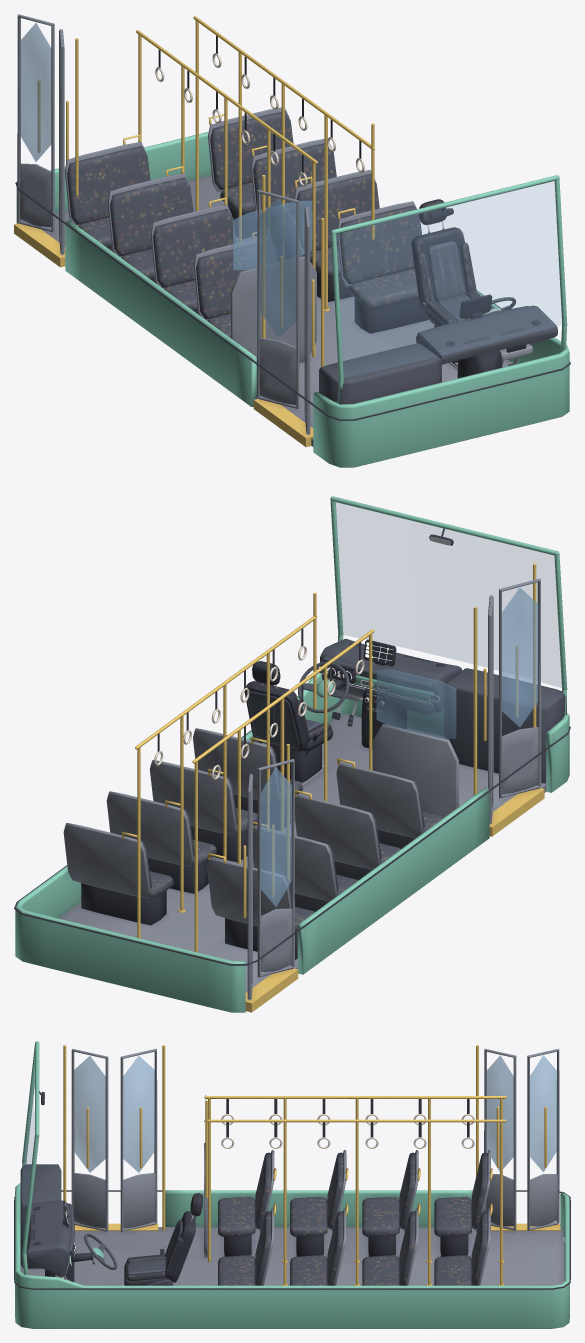
Rendered from bus-interior.glb.
3 renders of one model, top to bottom at view 1: azimuth 30°, elevation 25°; view 2: azimuth 150°, elevation 25°; view 3: azimuth 270°, elevation 25°, orthographic. The views are drawn at different scales.
Visible parts, largest first — view 1: bus-interior_body, bus-interior_windshield_glass, bus-interior_door_glass, bus-interior_partition_glass; view 2: bus-interior_body, bus-interior_windshield_glass, bus-interior_door_glass, bus-interior_partition_glass, bus-interior_steering_wheel; view 3: bus-interior_body, bus-interior_door_glass, bus-interior_windshield_glass, bus-interior_steering_wheel.
Part boxes in pixels (<box>): bus-interior_body: <box>14,14,570,467</box>; bus-interior_windshield_glass: <box>336,181,561,377</box>; bus-interior_door_glass: <box>20,22,296,337</box>; bus-interior_partition_glass: <box>233,200,312,270</box>; bus-interior_body: <box>14,496,570,1012</box>; bus-interior_windshield_glass: <box>336,502,561,687</box>; bus-interior_door_glass: <box>261,587,537,906</box>; bus-interior_partition_glass: <box>376,669,456,738</box>; bus-interior_steering_wheel: <box>298,662,349,713</box>; bus-interior_body: <box>14,1041,570,1328</box>; bus-interior_door_glass: <box>74,1055,556,1172</box>; bus-interior_windshield_glass: <box>21,1073,34,1239</box>; bus-interior_steering_wheel: <box>84,1233,117,1269</box>.
Bounding box in the file's own units: 2.52 × 2.3 × 6.02.
Materials: 13 (2 with a texture image).
